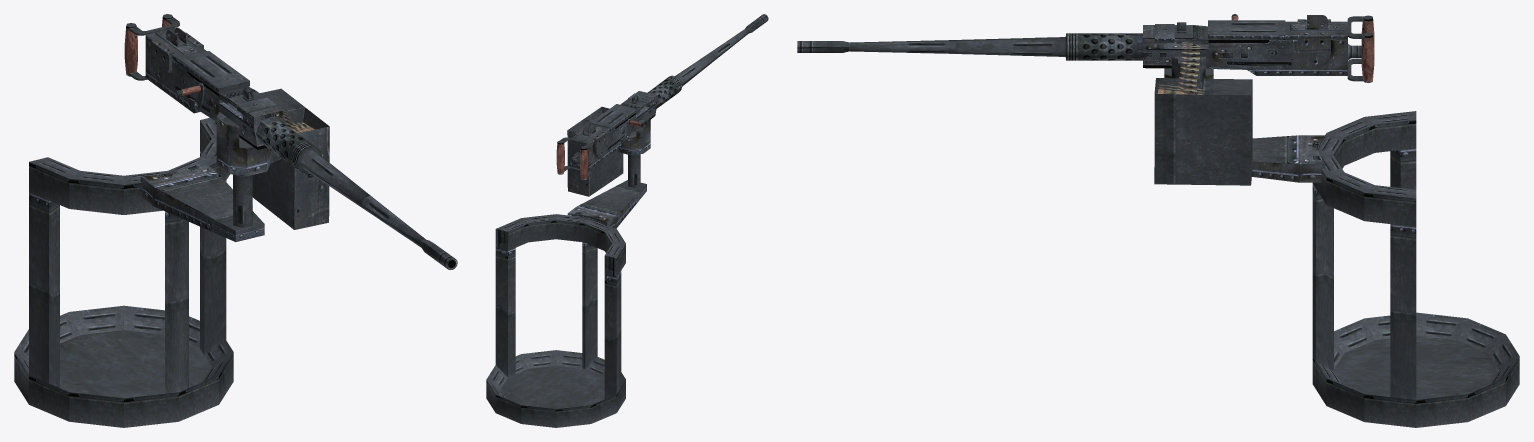
The model's file is ug50cal.glb.
The picture shows the model from 3 angles, left to right: view 1: azimuth 30°, elevation 25°; view 2: azimuth 150°, elevation 25°; view 3: azimuth 270°, elevation 25°; orthographic projection. The views are drawn at different scales.
Parts seen in each view (by area): view 1: _ug50cal; view 2: _ug50cal; view 3: _ug50cal.
Part boxes in pixels (<box>): _ug50cal: <box>14,14,457,427</box>; _ug50cal: <box>486,14,768,427</box>; _ug50cal: <box>797,14,1519,427</box>.
Size of the model in its own units: 0.824 by 1.61 by 2.87.
Materials: 2 (2 with a texture image).
